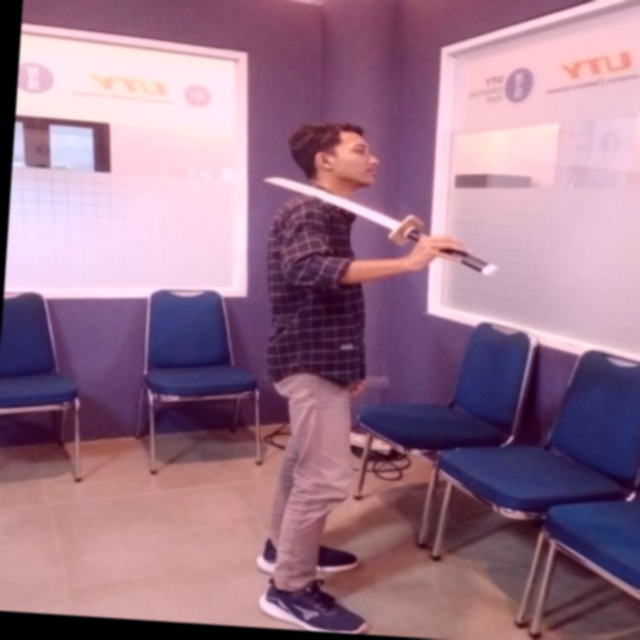Sharp-Object: (257, 165, 509, 281)
